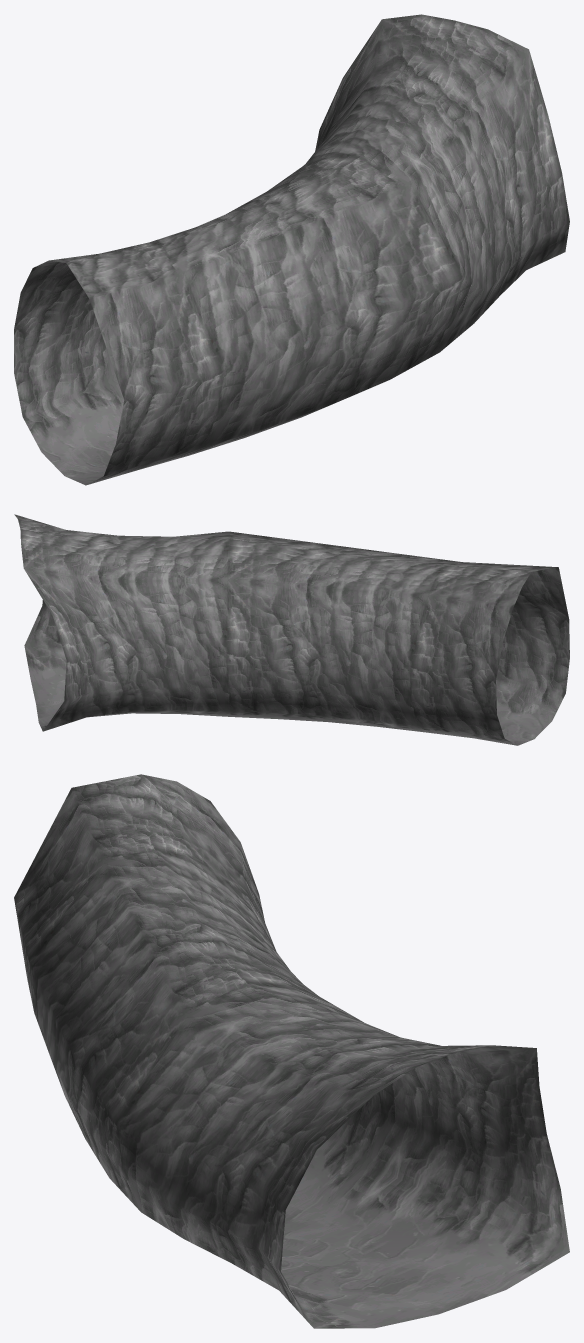
The model's file is SWORDLIGHT20_PS-AREA03-05TRANS_05.fbx.
3 renders of one model, top to bottom at view 1: azimuth 30°, elevation 25°; view 2: azimuth 150°, elevation 25°; view 3: azimuth 270°, elevation 25°, orthographic. The views are drawn at different scales.
Parts seen in each view (by area): view 1: SWORDLIGHT20_PS-AREA03-05TRANS_05; view 2: SWORDLIGHT20_PS-AREA03-05TRANS_05; view 3: SWORDLIGHT20_PS-AREA03-05TRANS_05.
Part boxes in pixels (x1=…): SWORDLIGHT20_PS-AREA03-05TRANS_05: x1=14, y1=14, x2=569, y2=485; SWORDLIGHT20_PS-AREA03-05TRANS_05: x1=14, y1=514, x2=569, y2=745; SWORDLIGHT20_PS-AREA03-05TRANS_05: x1=14, y1=774, x2=569, y2=1328.
Size of the model in its own units: 167259 by 66446 by 115688.
Materials: 2 (2 with a texture image).
